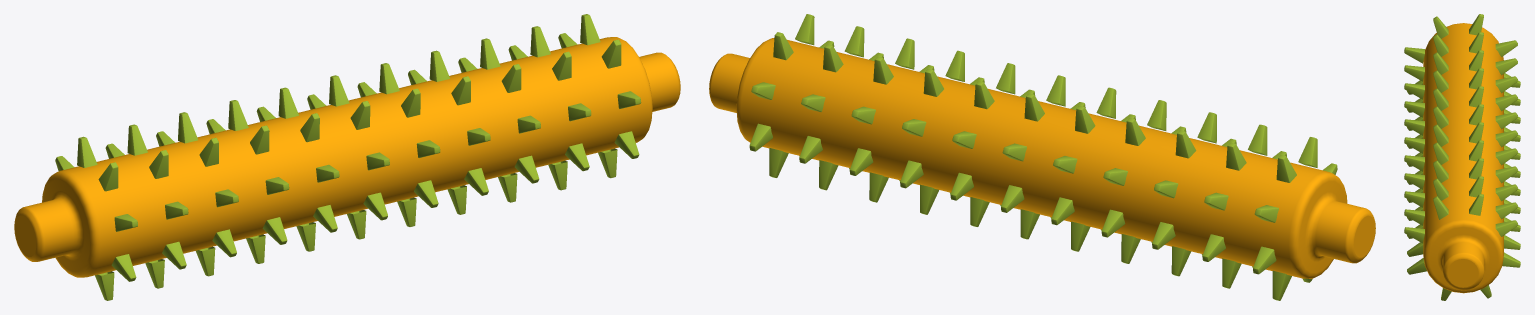
File: Spike_MESH.fbx
The picture shows the model from 3 angles, left to right: view 1: azimuth 30°, elevation 25°; view 2: azimuth 150°, elevation 25°; view 3: azimuth 270°, elevation 25°; orthographic projection. The views are drawn at different scales.
Parts seen in each view (by area): view 1: Spike_MESH; view 2: Spike_MESH; view 3: Spike_MESH.
Boxes of the visible parts, left/top/right/bottom form: Spike_MESH: left=14, top=14, right=680, bottom=300; Spike_MESH: left=709, top=14, right=1375, bottom=300; Spike_MESH: left=1404, top=14, right=1520, bottom=300.
Size of the model in its own units: 102 by 21.77 by 21.77.
